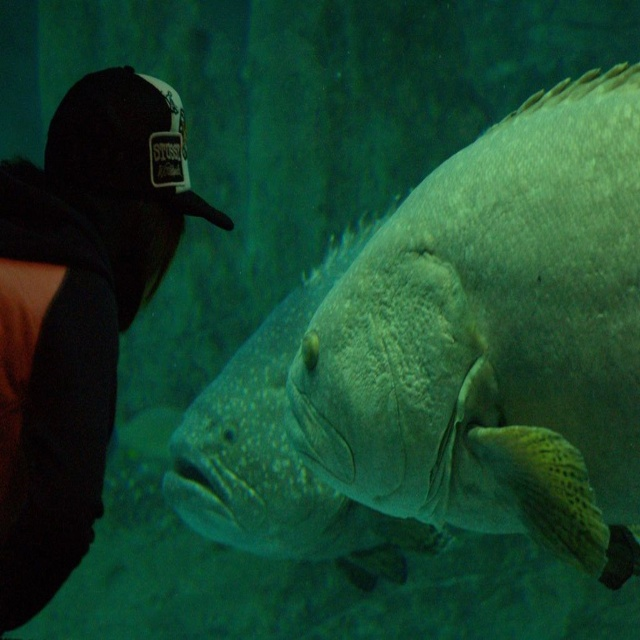Fish: (284, 62, 640, 590), (161, 190, 410, 600)
